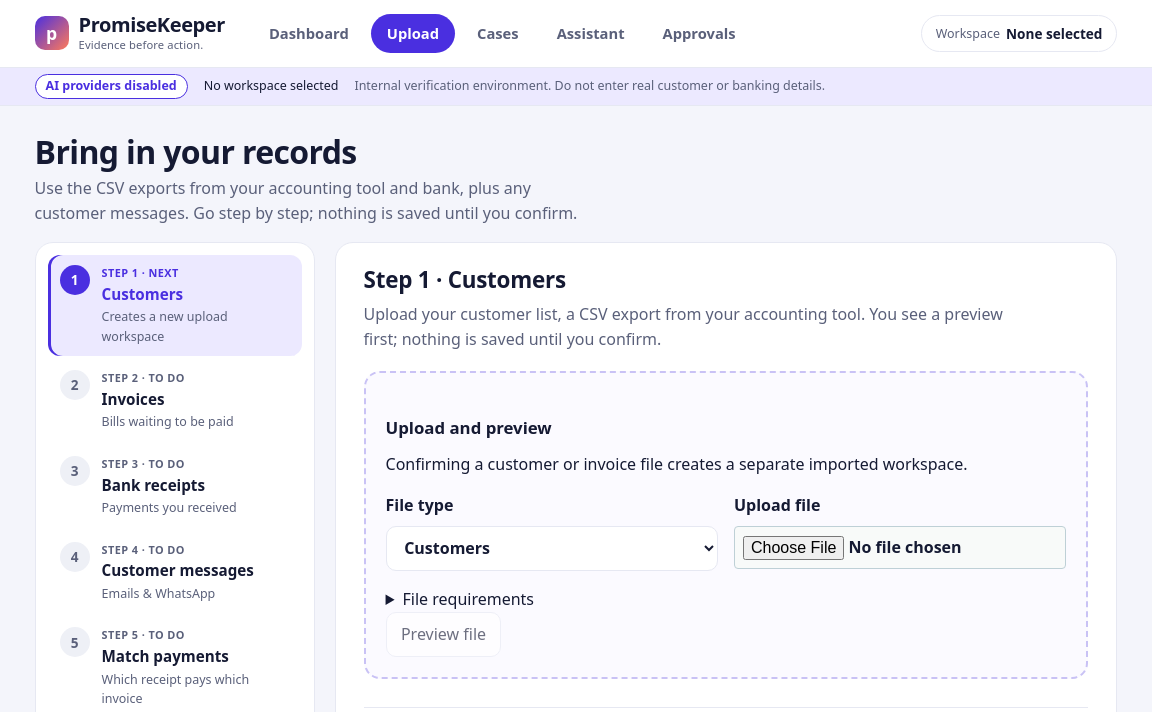
offers file requirements and never creates a workspace or imports on opening
The image size is (1152, 712).
Click the heading "File requirements". click: {"x": 468, "y": 599}
box: [402,588,534,610]
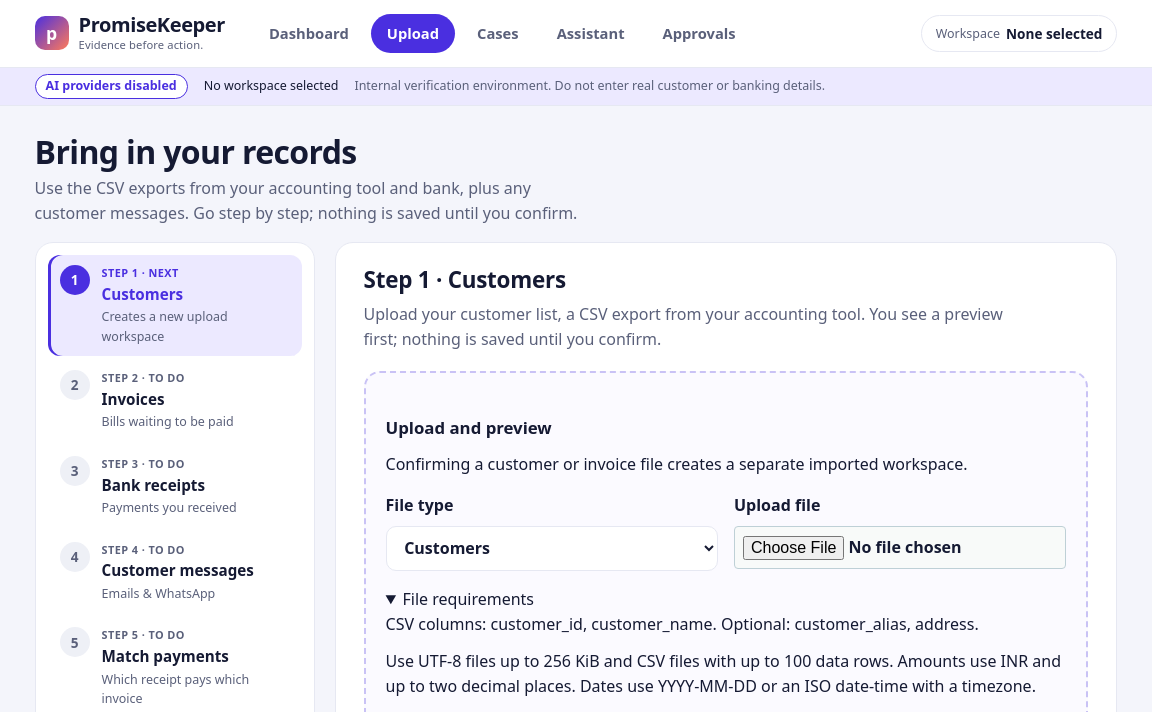
Check: the file field labelled "Upload file" is shown, box [734,526,1066,569]
Check: the text "customer_id, customer_name" is shown, box [386,613,979,635]
